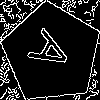A: (26, 28, 82, 81)
